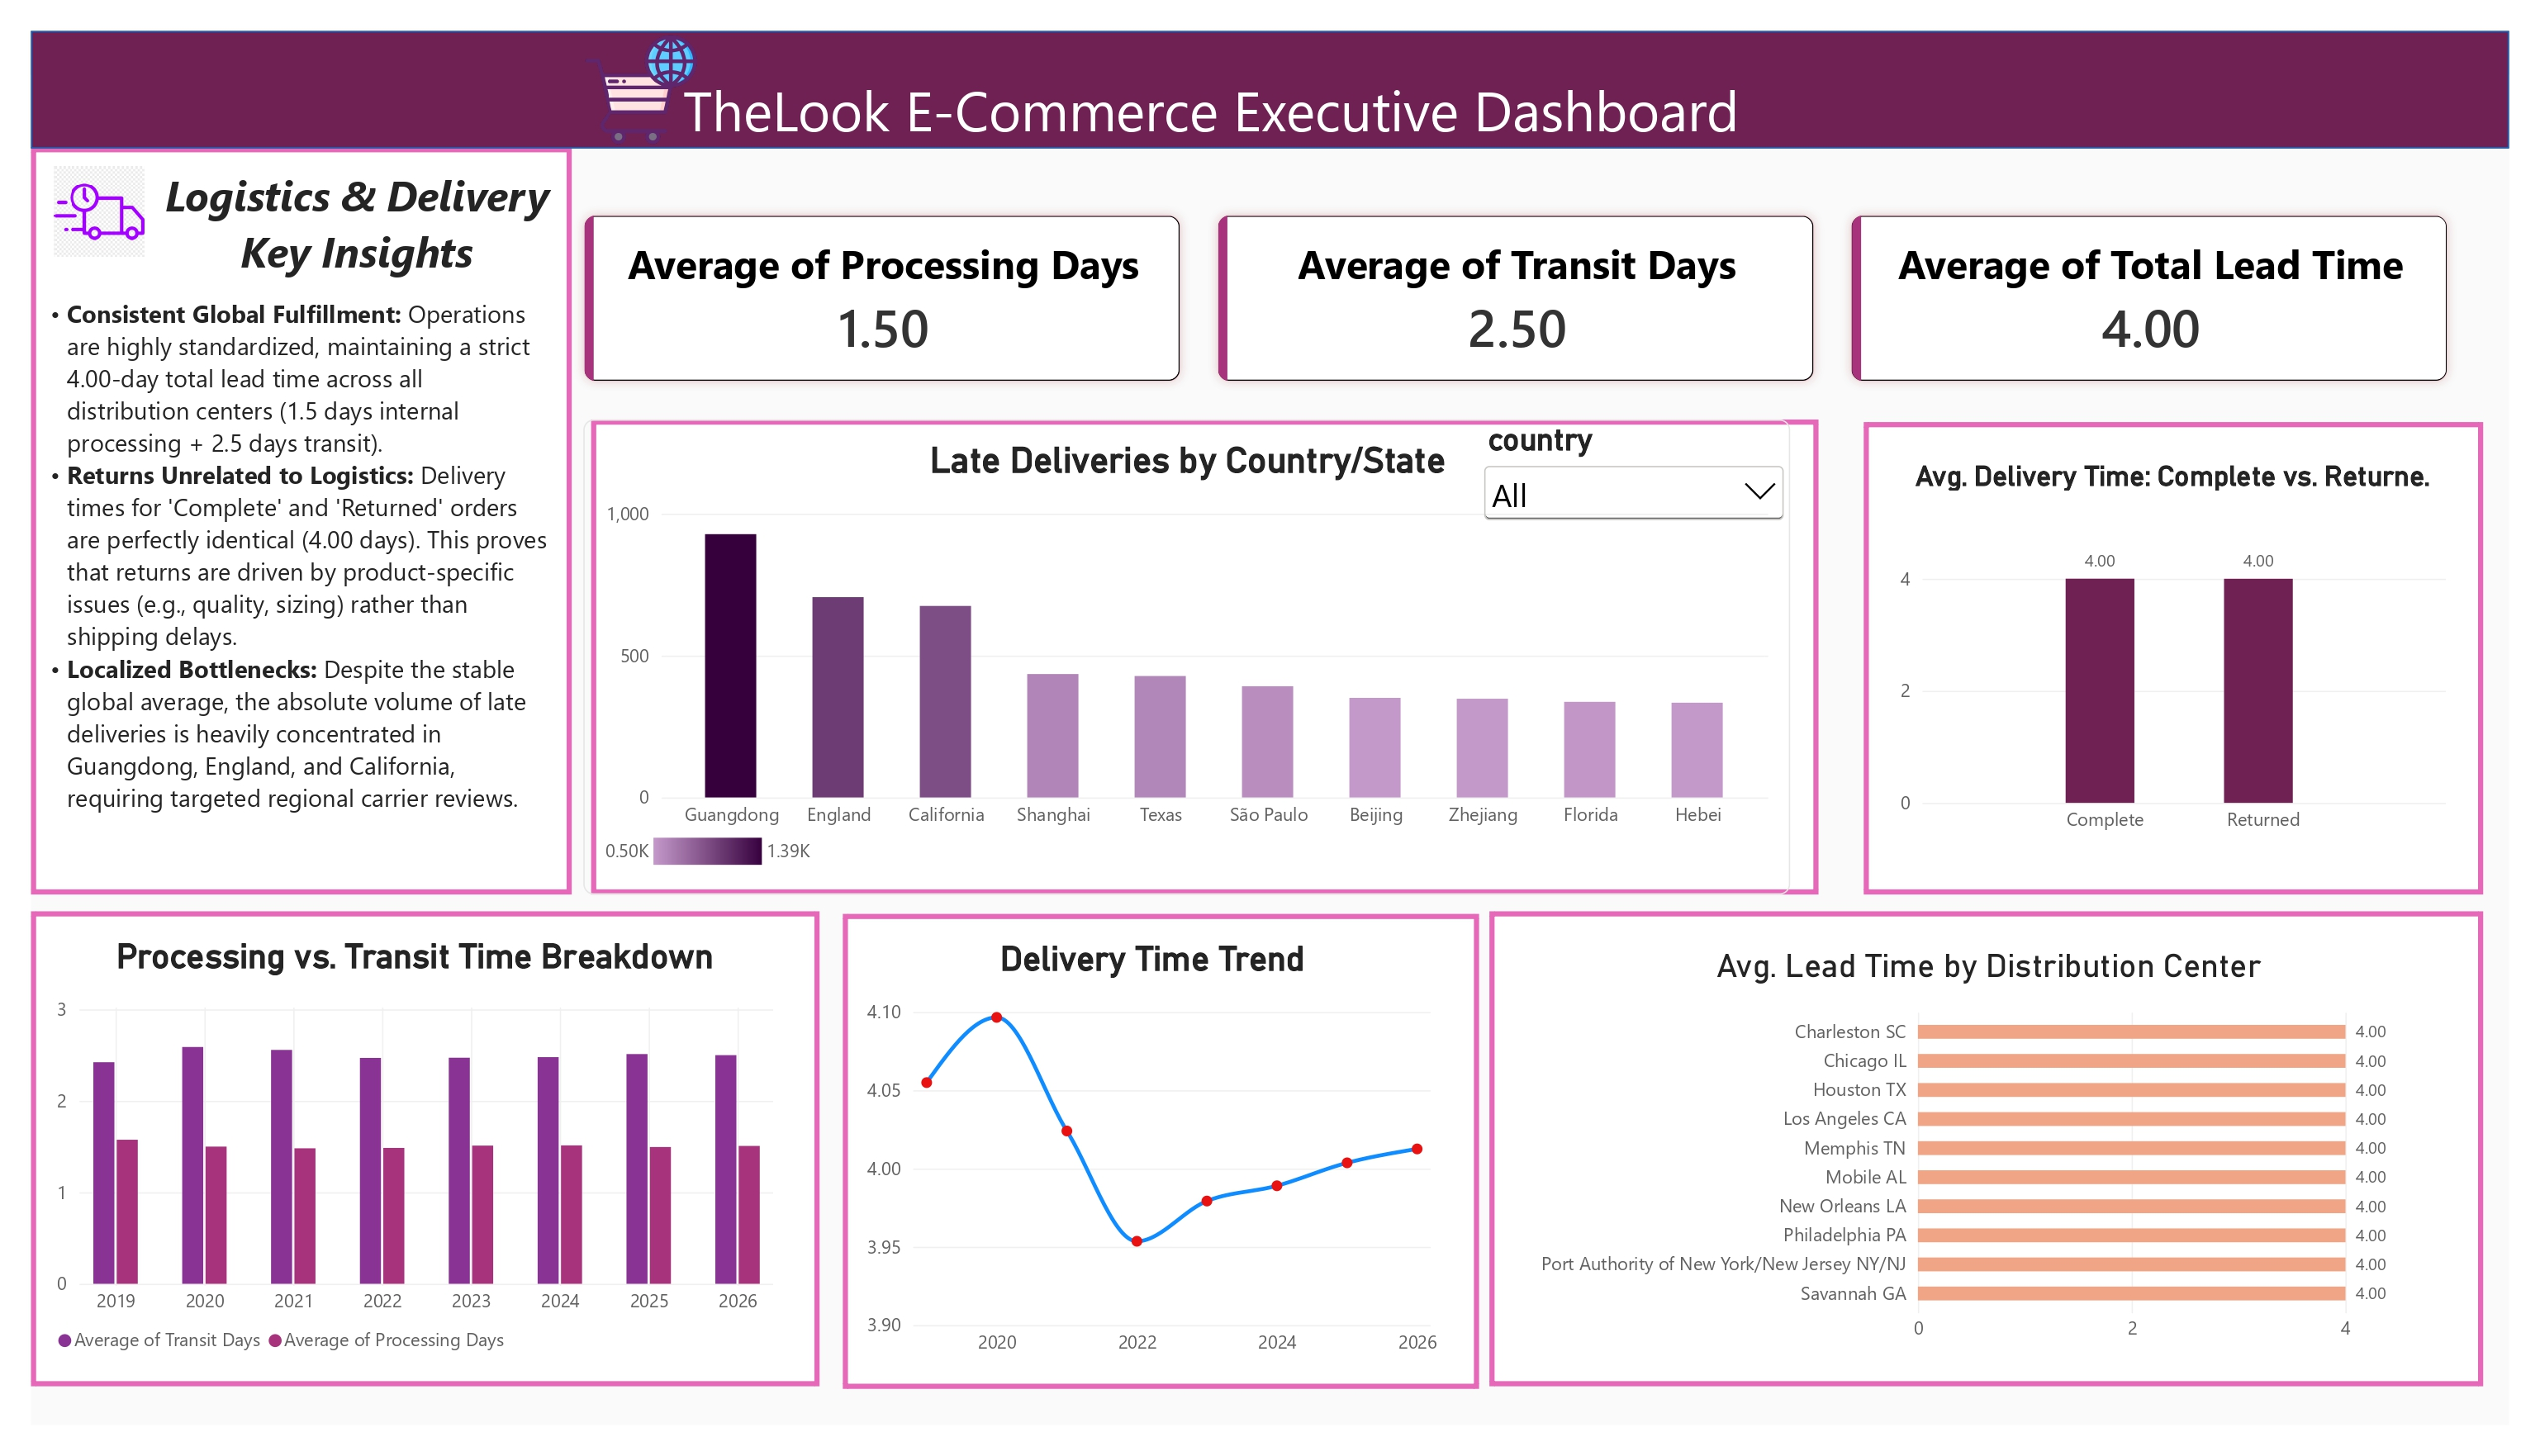

The dashboard page shown, as its layout file describes it:
{"tool":"powerbi","page":{"name":"Logistics & Delivery","canvas":[1920,1080],"ordinal":4},"visuals":[{"type":"shape","box":[0,90.4,418.6,578.4],"z":0},{"type":"shape","box":[0,0,1920.4,90.6],"z":1000},{"type":"textbox","box":[458.9,32.1,910.7,73.2],"z":2000},{"type":"image","box":[417.9,0,109.1,90.6],"z":3000},{"type":"group","id":"g1","title":"Group 1","box":[434.5,300.5,950.7,368.4],"z":4000,"group":"g3"},{"type":"textbox","box":[496,398,132,244],"z":4000},{"type":"cardVisual","fields":{"Data":["Avg(orders.Processing Days)","Avg(orders.Transit Days)","Avg(orders.Total Lead Time)"]},"box":[417.8,131.7,1467.6,150.3],"z":5000},{"type":"group","id":"g2","title":"Group 1","box":[1420.2,302.6,479.6,366.4],"z":5000,"group":"g4"},{"type":"group","id":"g3","title":"Group 2","box":[428.1,300.5,957.1,368.4],"z":6000},{"type":"columnChart","title":"Late Deliveries by Country/State","fields":{"Category":["users.country Hierarchy.state"],"Y":["Count(orders.order_id)"]},"box":[428.1,300.5,934.7,368.4],"z":7000,"group":"g3"},{"type":"group","id":"g4","title":"Group 4","box":[1420.2,302.6,479.6,366.4],"z":7000,"group":"g13"},{"type":"group","id":"g5","title":"Group 1","box":[0,681.5,610.7,367.9],"z":7000,"group":"g11"},{"type":"group","id":"g6","title":"Group 5","box":[1129.5,681.5,769.9,368.1],"z":7000},{"type":"group","id":"g7","title":"Group 1","box":[1129.5,681.5,770.2,367.9],"z":7000,"group":"g10"},{"type":"group","id":"g8","title":"Group 1","box":[628.9,683.6,492.8,367.9],"z":7000,"group":"g12"},{"type":"group","id":"g9","title":"Group 6","box":[628.9,683.6,492.2,368.1],"z":8000},{"type":"textbox","box":[86.2,105.2,332.3,101],"z":9000},{"type":"group","id":"g10","title":"Group 3","box":[1129.5,681.5,770.2,367.9],"z":9000,"group":"g6"},{"type":"image","box":[0,105.2,105.2,69.4],"z":10000},{"type":"group","id":"g11","title":"Group 3","box":[0,681.5,610.7,367.9],"z":10000,"group":"g14"},{"type":"group","id":"g12","title":"Group 3","box":[628.9,683.6,492.8,367.9],"z":10000,"group":"g9"},{"type":"barChart","title":"Avg. Lead Time by Distribution Center","fields":{"Category":["distribution_centers.name"],"Y":["Avg(orders.Total Lead Time)"]},"box":[1137.7,694.2,757.3,341.1],"z":10000,"group":"g6"},{"type":"textbox","box":[0,206.1,401.8,435.4],"z":11000},{"type":"clusteredColumnChart","title":"Processing vs. Transit Time Breakdown","fields":{"Category":["orders.created_at.Variation.Date Hierarchy.Year","orders.created_at.Variation.Date Hierarchy.Month"],"Y":["Avg(orders.Transit Days)","Avg(orders.Processing Days)"]},"box":[3.6,686.9,587.5,357.1],"z":11000,"group":"g14"},{"type":"lineChart","title":"Delivery Time Trend","fields":{"Category":["orders.created_at.Variation.Date Hierarchy.Year","orders.created_at.Variation.Date Hierarchy.Month"],"Y":["Avg(orders.Total Lead Time)"]},"box":[631.8,689,474.1,357.1],"z":11000,"group":"g9"},{"type":"slicer","fields":{"Values":["users.country Hierarchy.country"]},"box":[1121.1,302.9,241.9,88.3],"z":12000},{"type":"shape","box":[434.5,300.5,950.7,368.4],"z":13000,"group":"g1"},{"type":"group","id":"g13","title":"Group 7","box":[1420.2,302.6,479.6,366.4],"z":13000},{"type":"shape","box":[1420.2,302.6,479.6,366.4],"z":13000,"group":"g2"},{"type":"shape","box":[0,681.5,610.7,367.9],"z":13000,"group":"g5"},{"type":"shape","box":[1129.5,681.5,770.2,367.9],"z":13000,"group":"g7"},{"type":"shape","box":[628.9,683.6,492.8,367.9],"z":13000,"group":"g8"},{"type":"columnChart","title":"Avg. Delivery Time: Complete vs. Returne.","fields":{"Category":["orders.status"],"Y":["Avg(orders.Total Lead Time)"]},"box":[1432.4,317.6,454.3,323.9],"z":13001,"group":"g13"},{"type":"group","id":"g14","title":"Group 6","box":[0,681.5,610,368.1],"z":13001}]}

Visuals, with their boxes on the page's 1920x1080 design canvas (x1, y1, x2, y2). These are canvas units, not pixel positions in the 2540x1456 screenshot, which may show the page scaled, cropped or inside an application window:
shape: left=0, top=90, right=419, bottom=669
shape: left=0, top=0, right=1920, bottom=91
textbox: left=459, top=32, right=1370, bottom=105
image: left=418, top=0, right=527, bottom=91
"Group 1" group: left=434, top=300, right=1385, bottom=669
textbox: left=496, top=398, right=628, bottom=642
cardVisual - Avg(orders.Processing Days) x Avg(orders.Transit Days): left=418, top=132, right=1885, bottom=282
"Group 1" group: left=1420, top=303, right=1900, bottom=669
"Group 2" group: left=428, top=300, right=1385, bottom=669
"Late Deliveries by Country/State" columnChart: left=428, top=300, right=1363, bottom=669
"Group 4" group: left=1420, top=303, right=1900, bottom=669
"Group 1" group: left=0, top=682, right=611, bottom=1049
"Group 5" group: left=1130, top=682, right=1899, bottom=1050
"Group 1" group: left=1130, top=682, right=1900, bottom=1049
"Group 1" group: left=629, top=684, right=1122, bottom=1052
"Group 6" group: left=629, top=684, right=1121, bottom=1052
textbox: left=86, top=105, right=418, bottom=206
"Group 3" group: left=1130, top=682, right=1900, bottom=1049
image: left=0, top=105, right=105, bottom=175
"Group 3" group: left=0, top=682, right=611, bottom=1049
"Group 3" group: left=629, top=684, right=1122, bottom=1052
"Avg. Lead Time by Distribution Center" barChart: left=1138, top=694, right=1895, bottom=1035
textbox: left=0, top=206, right=402, bottom=642
"Processing vs. Transit Time Breakdown" clusteredColumnChart: left=4, top=687, right=591, bottom=1044
"Delivery Time Trend" lineChart: left=632, top=689, right=1106, bottom=1046
slicer - users.country Hierarchy.country: left=1121, top=303, right=1363, bottom=391
shape: left=434, top=300, right=1385, bottom=669
"Group 7" group: left=1420, top=303, right=1900, bottom=669
shape: left=1420, top=303, right=1900, bottom=669
shape: left=0, top=682, right=611, bottom=1049
shape: left=1130, top=682, right=1900, bottom=1049
shape: left=629, top=684, right=1122, bottom=1052
"Avg. Delivery Time: Complete vs. Returne." columnChart: left=1432, top=318, right=1887, bottom=642
"Group 6" group: left=0, top=682, right=610, bottom=1050
